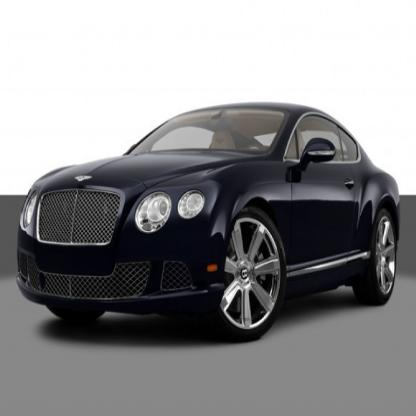car: (15, 98, 404, 349)
